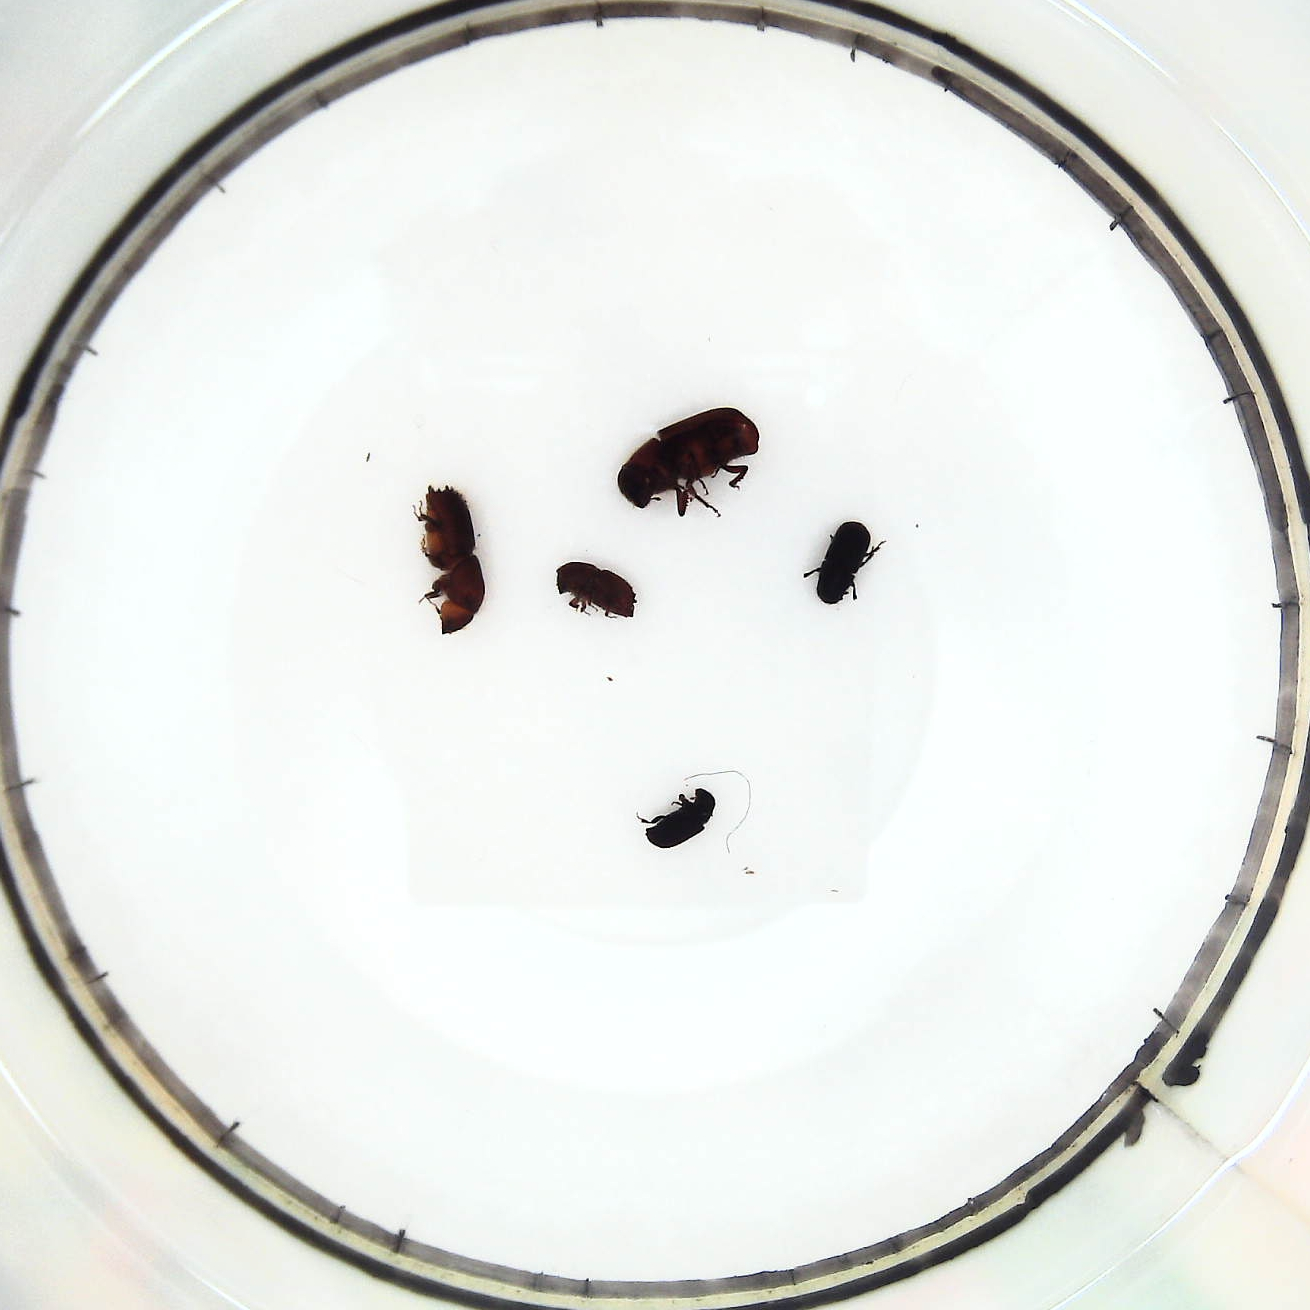Boerner: (417, 475, 489, 644)
Leconte: (614, 405, 779, 519)
armandi: (799, 517, 887, 631)
coleoptera: (638, 783, 725, 853)
linnaeus: (551, 553, 643, 631)
